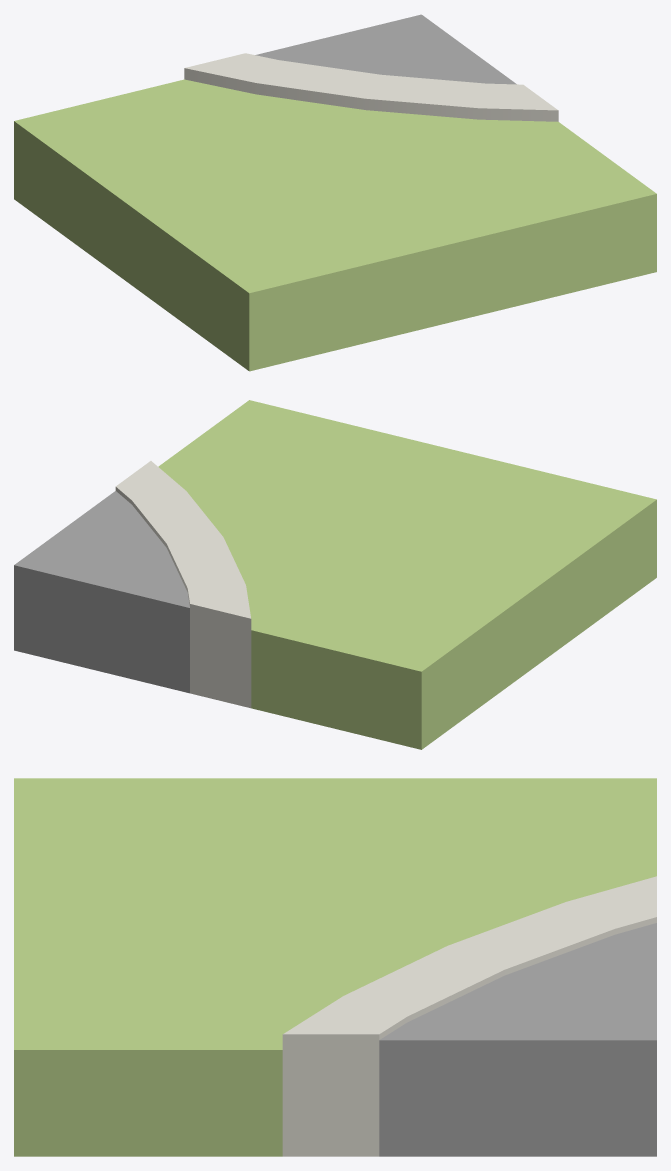
Rendered from road-pack--tile080.glb.
3 renders of one model, top to bottom at view 1: azimuth 30°, elevation 25°; view 2: azimuth 150°, elevation 25°; view 3: azimuth 270°, elevation 25°, orthographic. The views are drawn at different scales.
Parts seen in each view (by area): view 1: tile080; view 2: tile080; view 3: tile080.
Part boxes in pixels (x1=…): tile080: x1=14, y1=14, x2=656, y2=371; tile080: x1=14, y1=400, x2=656, y2=749; tile080: x1=14, y1=778, x2=656, y2=1156.
Size of the model in its own units: 1 by 0.21 by 1.
